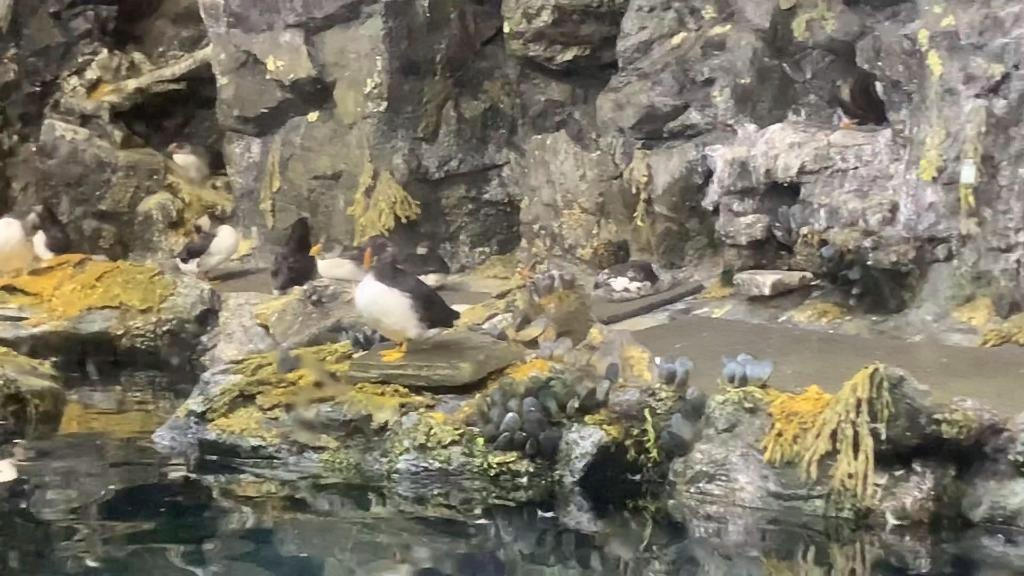puffin: (352, 234, 462, 364), (178, 212, 238, 278), (268, 216, 316, 290), (828, 68, 884, 128), (308, 236, 366, 280), (407, 242, 449, 286)
